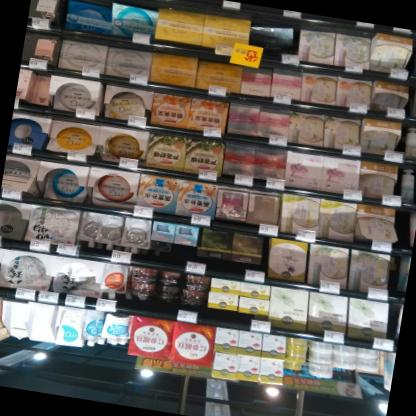empty_space: (62, 0, 109, 9)
